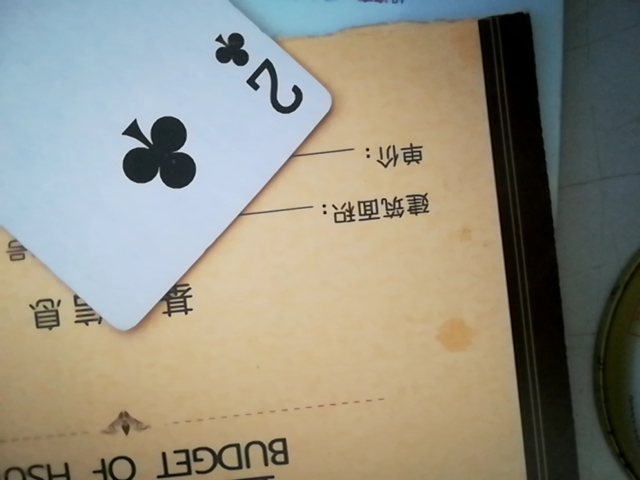mh 2: (0, 0, 336, 340)
